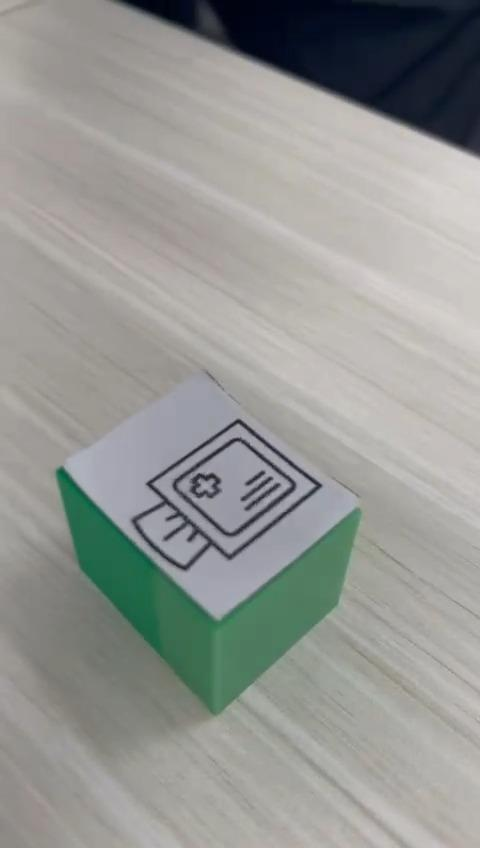Gauze: (54, 366, 363, 715)
